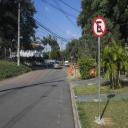NoEstacionar: (92, 16, 106, 38)
